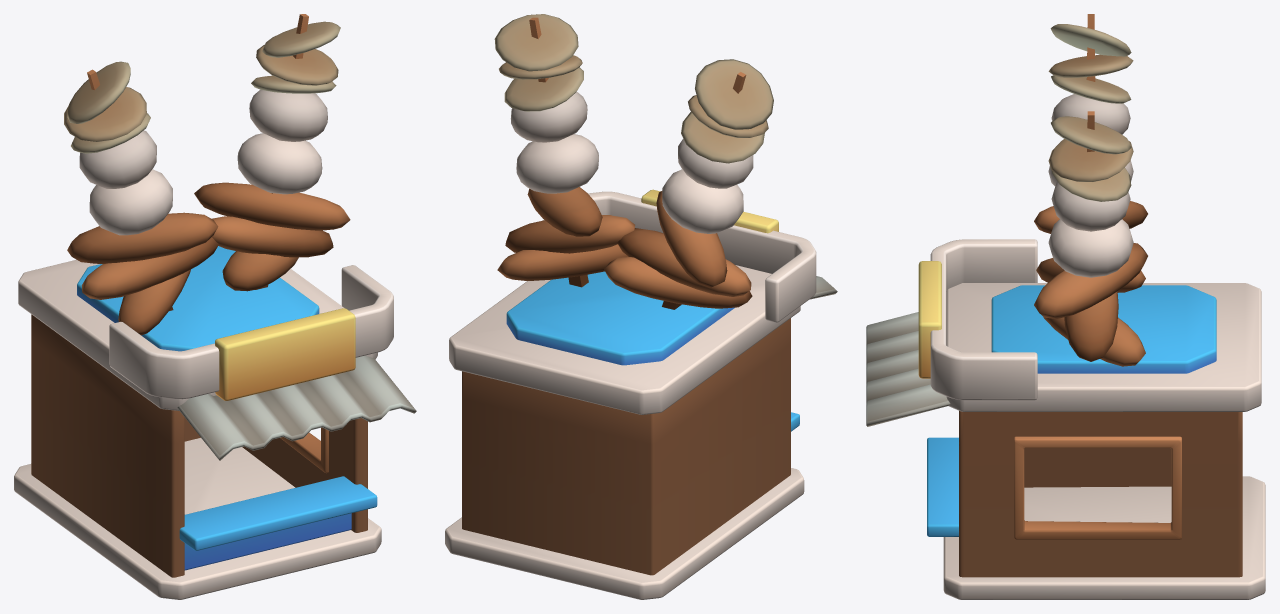
Rendered from lpb_store_fishball.fbx.
3 renders of one model, left to right at view 1: azimuth 30°, elevation 25°; view 2: azimuth 150°, elevation 25°; view 3: azimuth 270°, elevation 25°, orthographic. The views are drawn at different scales.
Parts seen in each view (by area): view 1: Store.014; view 2: Store.014; view 3: Store.014.
Boxes of the visible parts, x1,y1,x2,y2 form: Store.014: (14, 14, 416, 599); Store.014: (445, 14, 837, 599); Store.014: (866, 14, 1265, 599).
Size of the model in its own units: 388 by 667 by 500.
